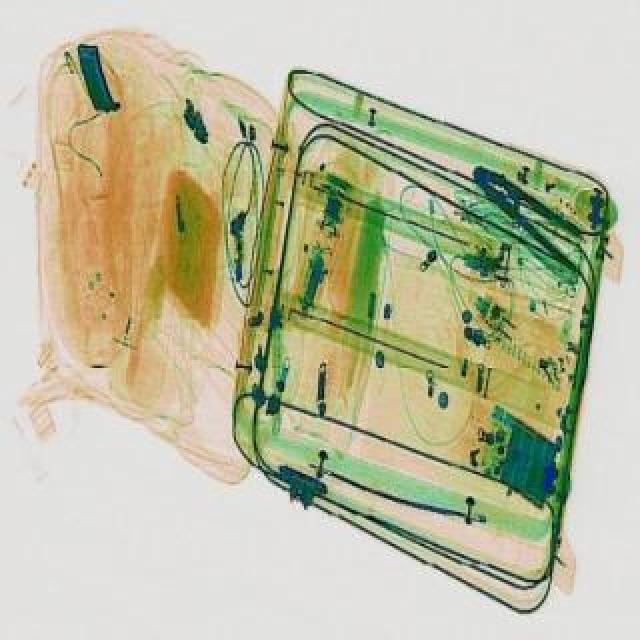wrench: (458, 160, 602, 280)
